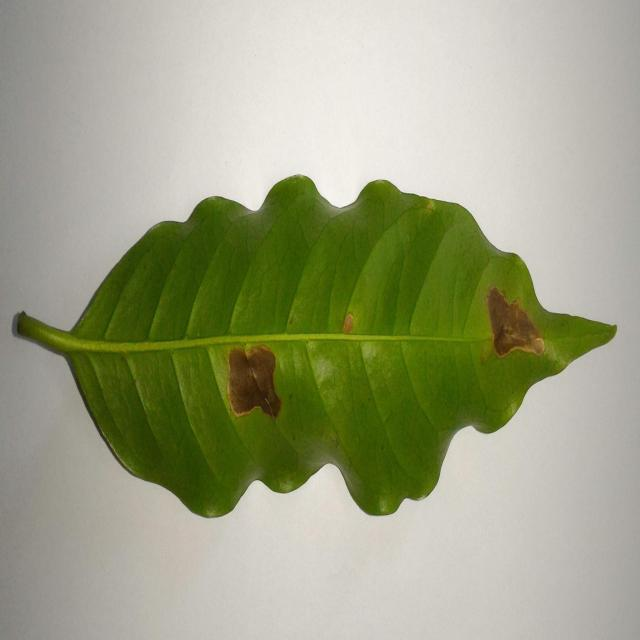miner: (224, 345, 282, 420), (486, 286, 545, 358), (342, 312, 357, 334)
